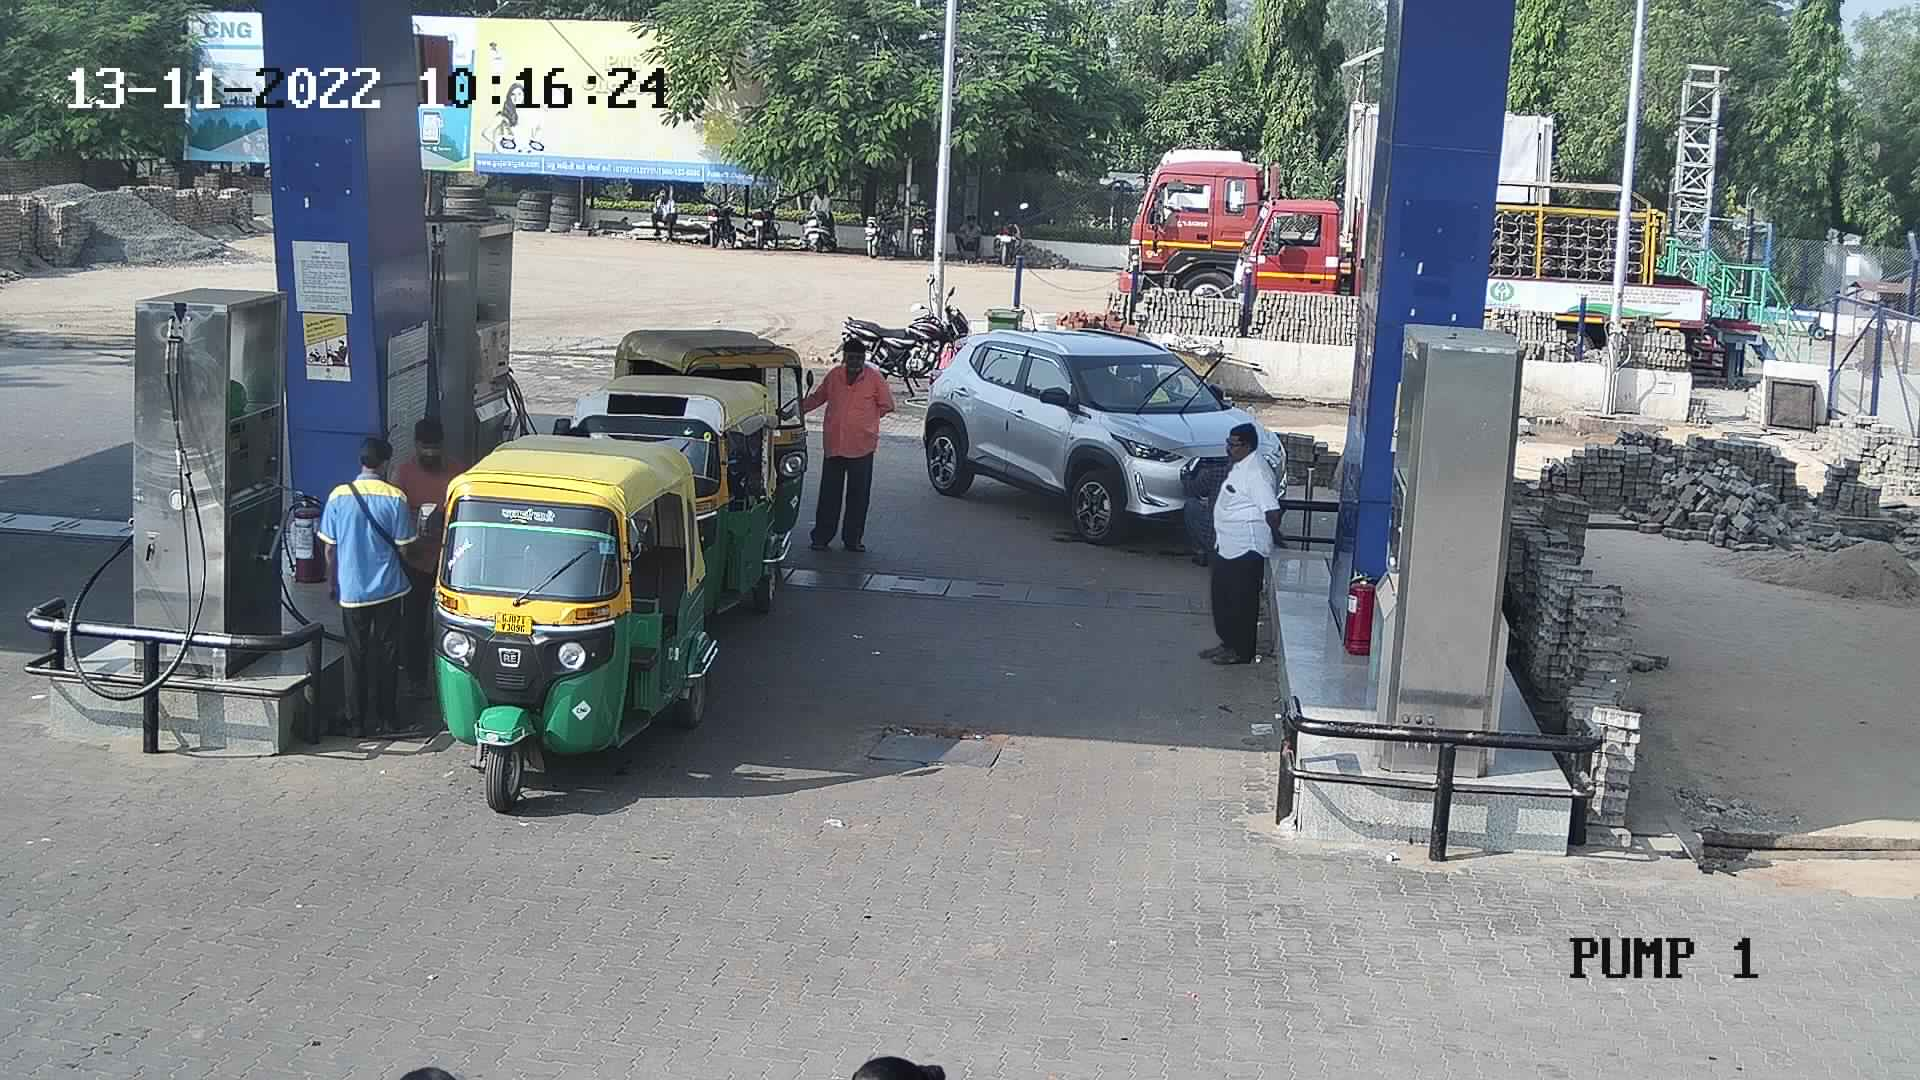Auto: (411, 426, 731, 819), (545, 368, 793, 634), (603, 323, 816, 582)
Bike: (824, 272, 975, 404), (695, 175, 746, 252), (985, 193, 1036, 266), (795, 177, 844, 251), (742, 177, 785, 257), (851, 193, 902, 257), (905, 185, 938, 262)
Car: (919, 316, 1282, 535)
HMV: (1098, 92, 1379, 320), (1222, 187, 1379, 334)
Others: (313, 426, 425, 746)
